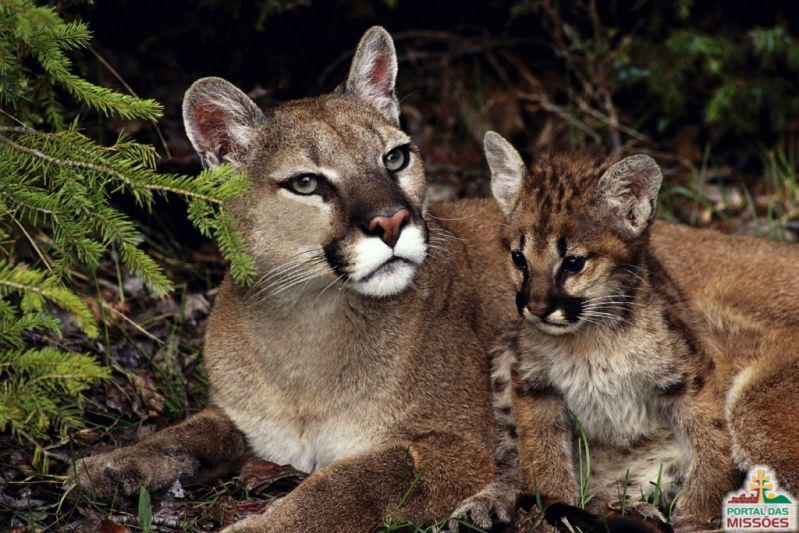OncaParda: (64, 24, 796, 517), (465, 131, 734, 513)
